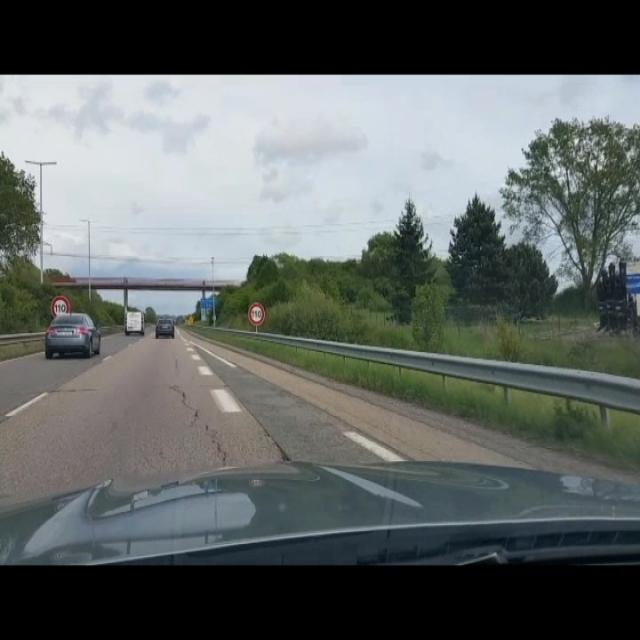speed_110: (248, 301, 265, 326)
